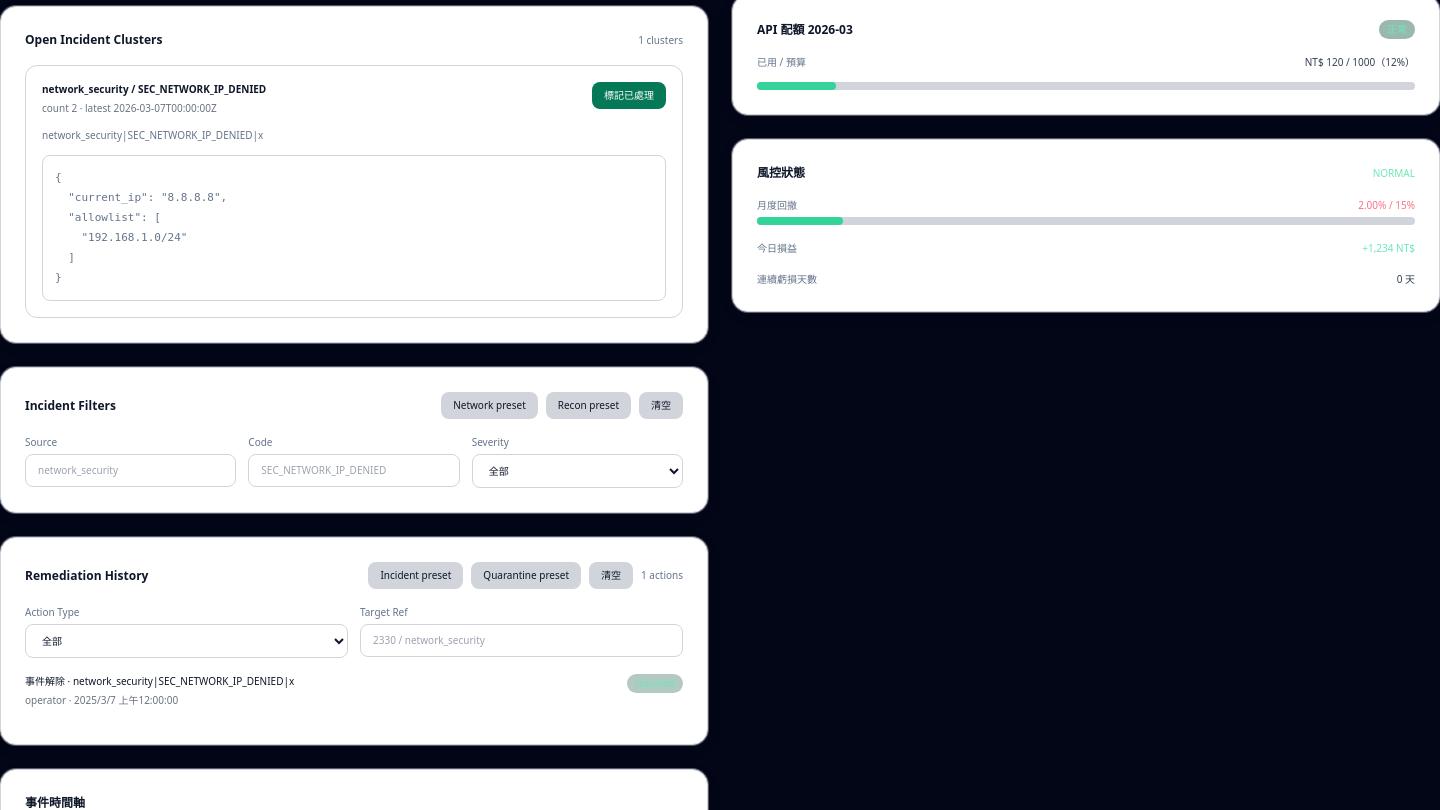
Scenario: SystemPage › applies incident preset shortcuts
The width and height of the screenshot is (1440, 810).
(page scrolled)
Click the button "Network preset" at (490, 406), box [441,392,538,419]
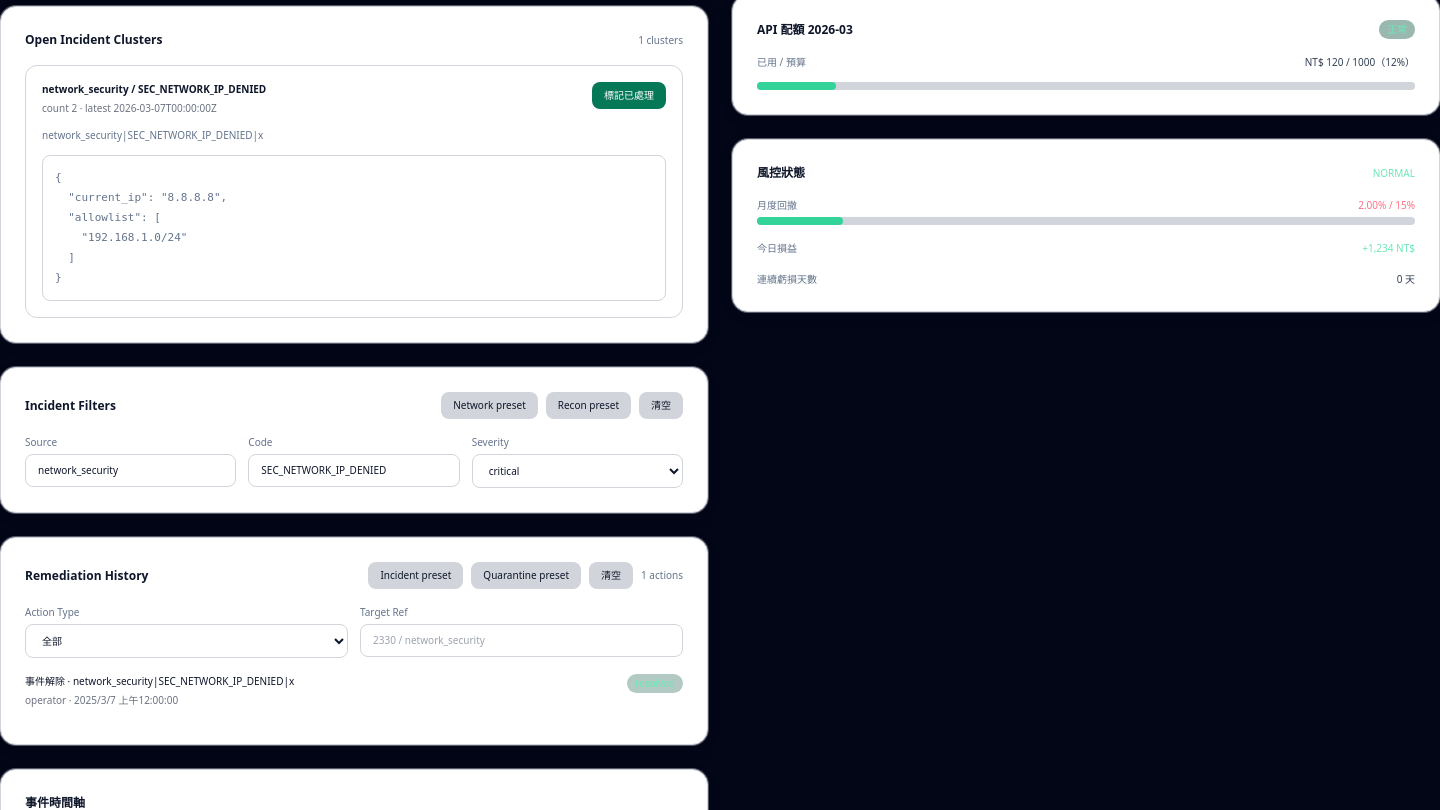
expect the field with placeholder "network_security" holds "network_security": met, box [25,454,236,487]
expect the field with placeholder "SEC_NETWORK_IP_DENIED" holds "SEC_NETWORK_IP_DENIED": met, box [248,454,460,487]
